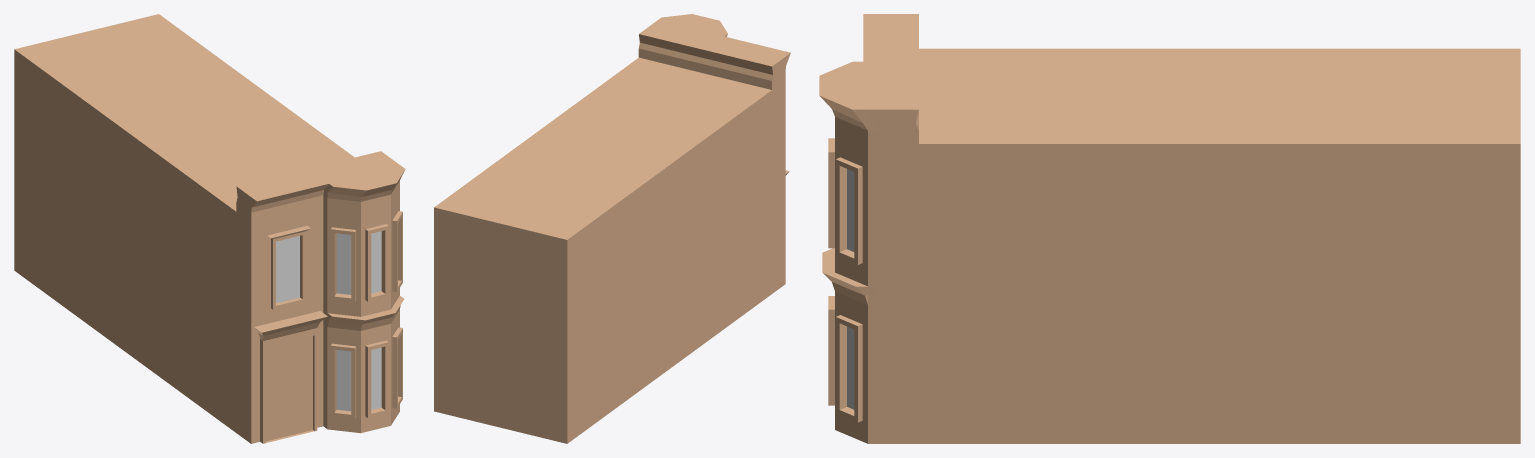
Rendered from SF_house_tan.fbx.
3 renders of one model, left to right at view 1: azimuth 30°, elevation 25°; view 2: azimuth 150°, elevation 25°; view 3: azimuth 270°, elevation 25°, orthographic. The views are drawn at different scales.
Parts seen in each view (by area): view 1: Cube.003; view 2: Cube.003; view 3: Cube.003.
Part boxes in pixels (x1,y1,x2,y2): Cube.003: [14, 14, 405, 443]; Cube.003: [434, 14, 790, 443]; Cube.003: [819, 14, 1520, 443].
Bounding box in the file's own units: 297 × 484 × 920.
